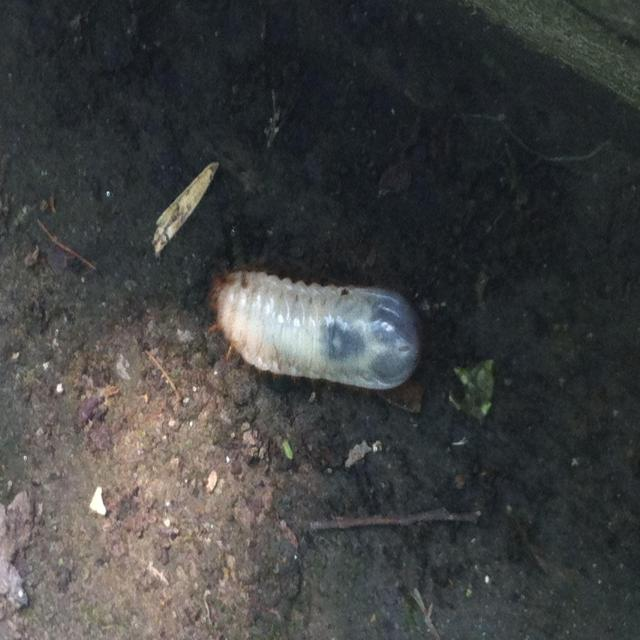grub: (205, 258, 426, 396)
